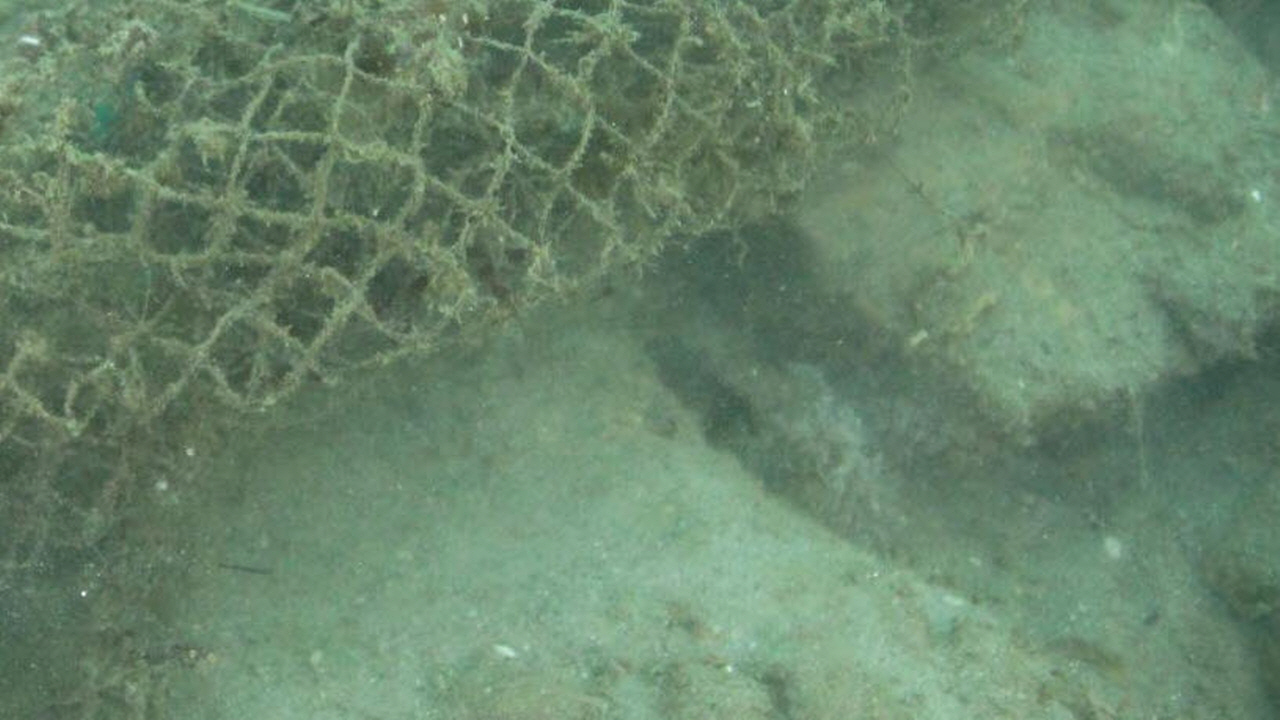fish net: (0, 0, 1035, 593)
